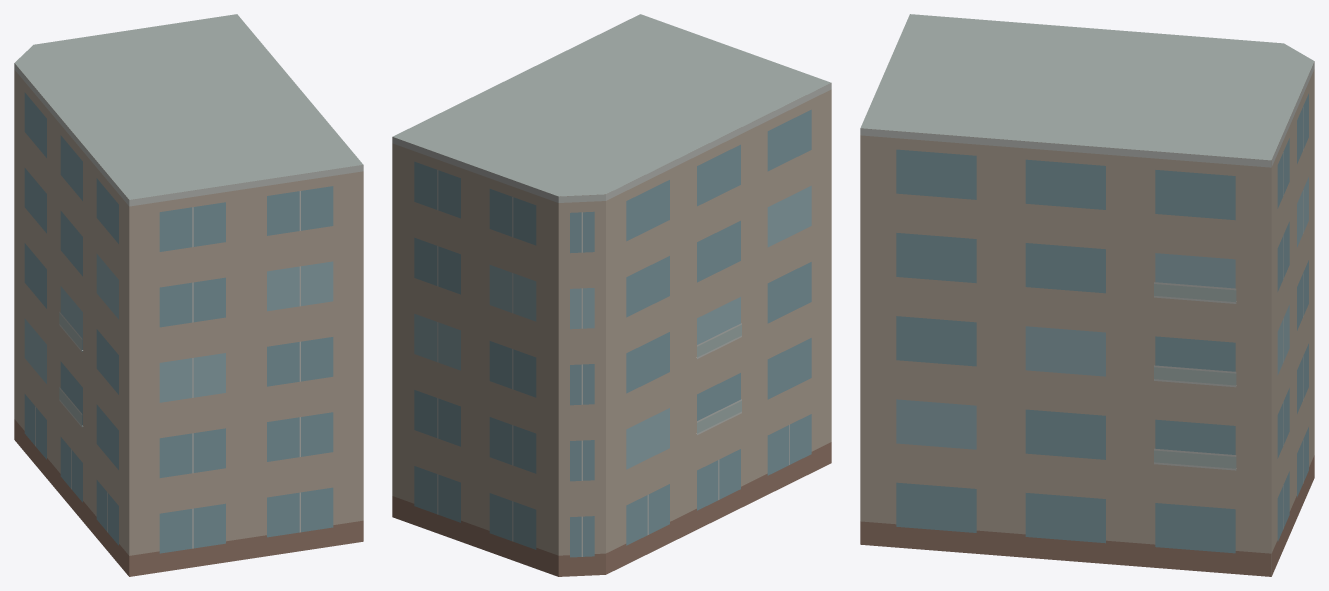
The model's file is survey-upis-32707020.glb.
The picture shows the model from 3 angles, left to right: view 1: azimuth 30°, elevation 25°; view 2: azimuth 150°, elevation 25°; view 3: azimuth 270°, elevation 25°; orthographic projection. The views are drawn at different scales.
Visible parts, largest first — view 1: survey-upis-32707020.tmp; view 2: survey-upis-32707020.tmp; view 3: survey-upis-32707020.tmp.
Part boxes in pixels (box(x1,y1,x2,y2)): survey-upis-32707020.tmp: box(14, 14, 363, 576); survey-upis-32707020.tmp: box(392, 14, 831, 576); survey-upis-32707020.tmp: box(860, 14, 1314, 576).
Size of the model in its own units: 10.64 by 14.1 by 13.95.
